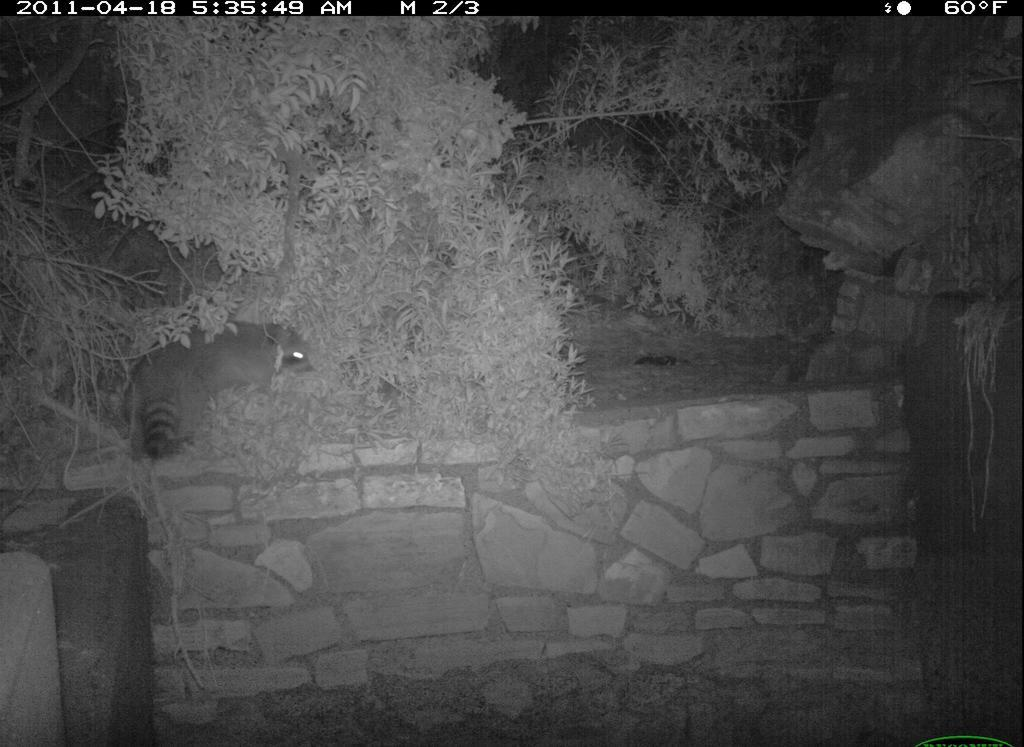raccoon: (100, 305, 340, 482)
